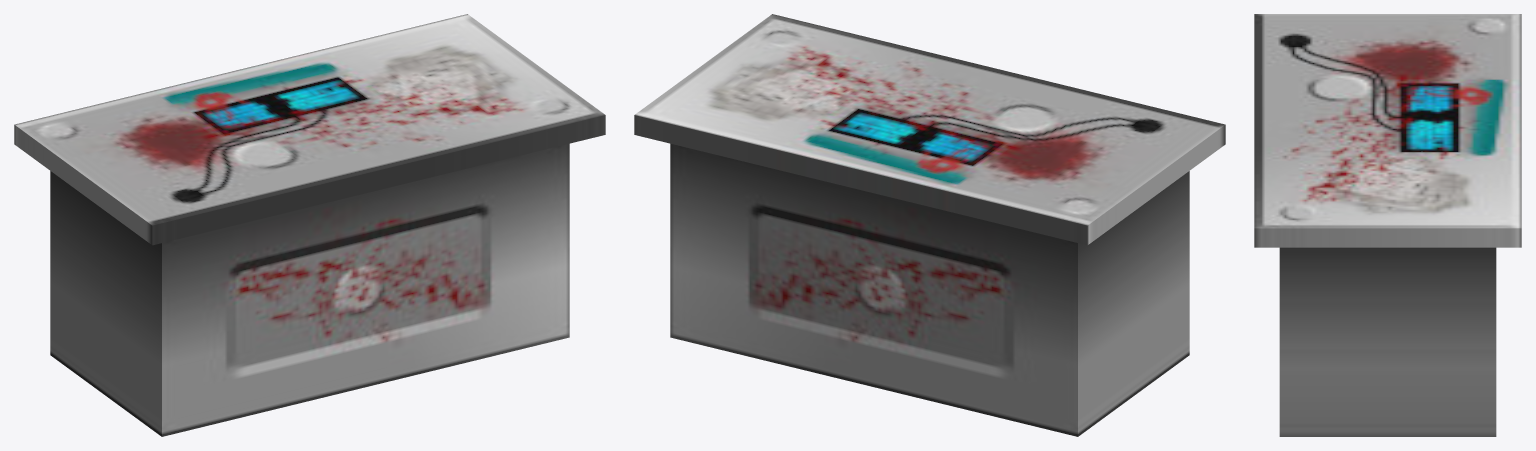
File: table.obj
3 views of the same model, side by side, from view 1: azimuth 30°, elevation 25°; view 2: azimuth 150°, elevation 25°; view 3: azimuth 270°, elevation 25° (orthographic). The views are drawn at different scales.
Parts seen in each view (by area): view 1: mesh01; view 2: mesh01; view 3: mesh01.
Boxes of the visible parts, left/top/right/bottom form: mesh01: left=14, top=14, right=605, bottom=436; mesh01: left=634, top=14, right=1225, bottom=436; mesh01: left=1254, top=14, right=1521, bottom=436.
Size of the model in its own units: 25.75 by 12.3 by 13.58.
